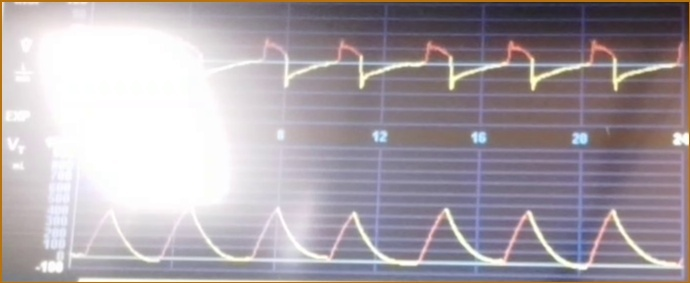Normal Flow: (204, 25, 685, 117)
Normal Volume: (73, 193, 680, 276)
